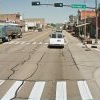crosswalk: (0, 79, 94, 100), (1, 41, 50, 45)
